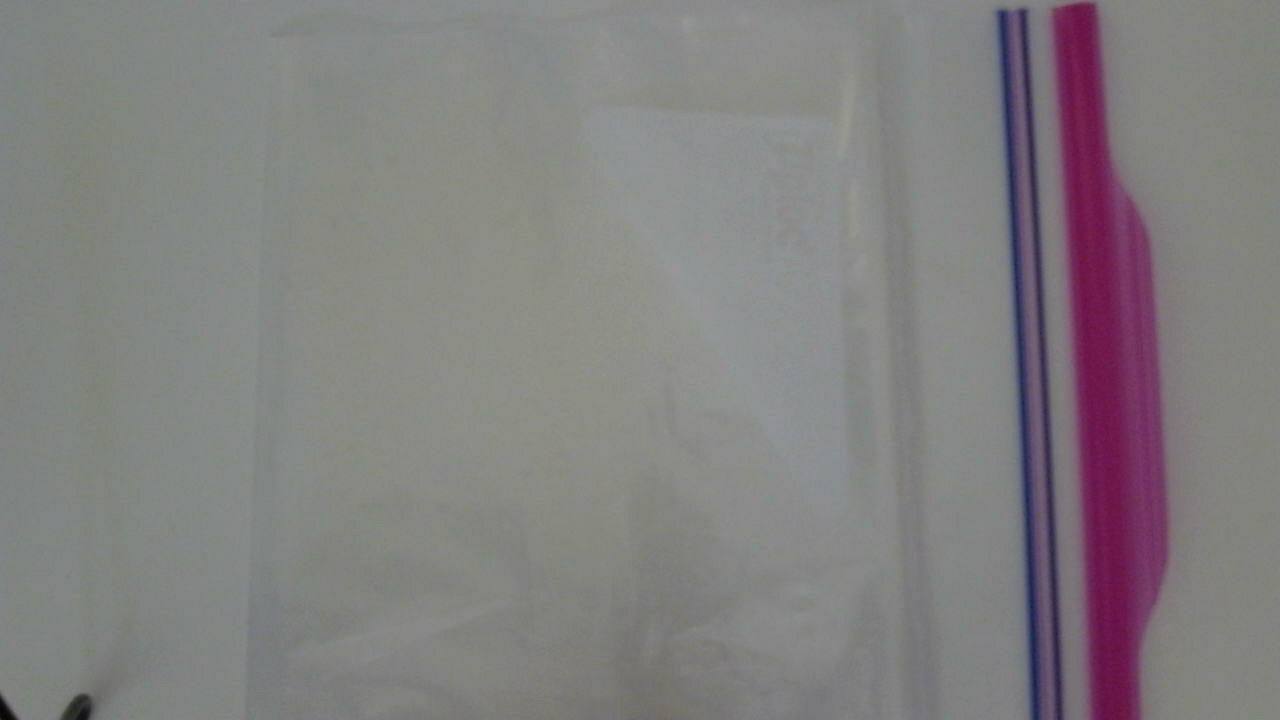Plastic Bag: (253, 8, 1185, 720)
